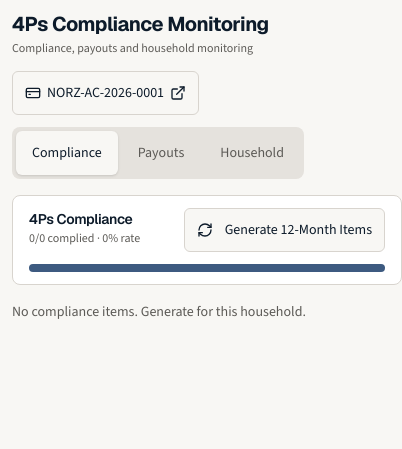
Test case: FourPsCompliancePage › loads the household from the 4Ps context, never the case-detail endpoint
The width and height of the screenshot is (402, 449).
Check: the link "NORZ-AC-2026-0001" is shown, box [12,70,199,114]
# Radix Tabs activates on mousedown, not click.
Press the mouse on the tab "Household" at coordinates (252, 152), box [204,130,300,174]
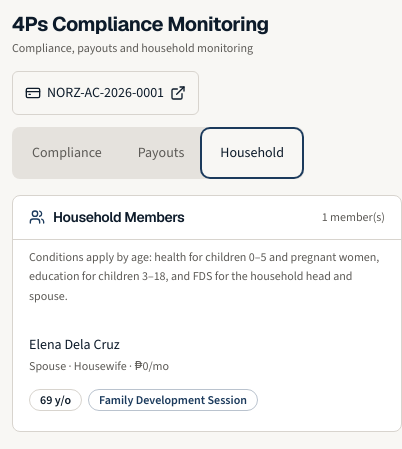
Check: the text "Elena Dela Cruz" is shown, box [29,335,120,354]
